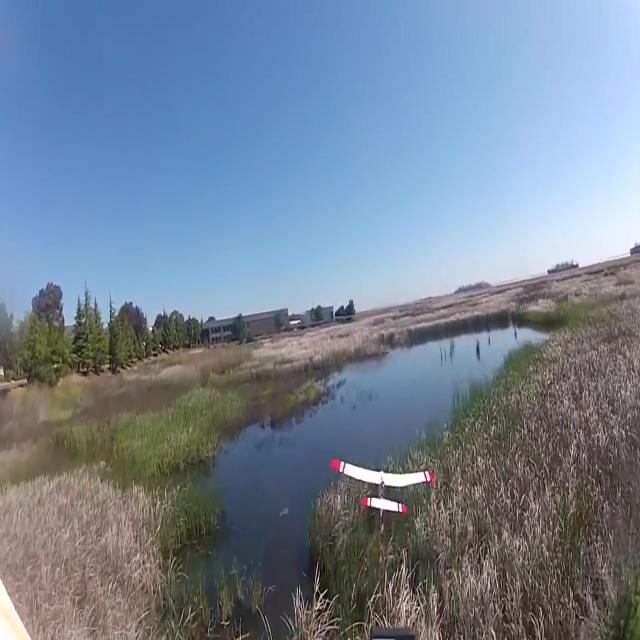iha: (360, 457, 404, 516)
